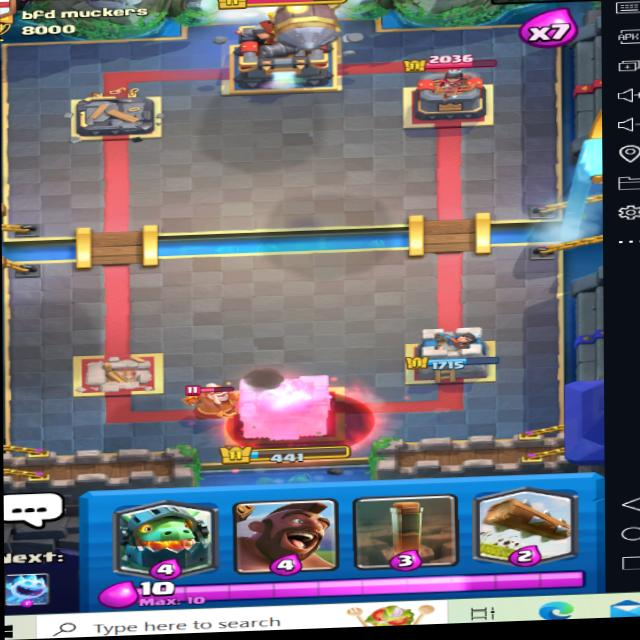monk: (182, 380, 242, 425)
rocket: (271, 0, 353, 60)
void: (214, 380, 371, 458)
